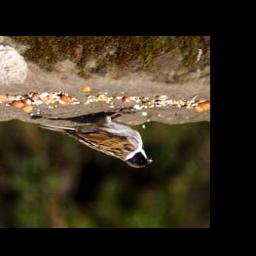Sparrow: (39, 109, 156, 170)
